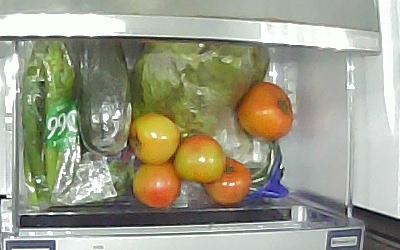tomato: (235, 80, 293, 140), (127, 111, 180, 164), (173, 133, 225, 183), (201, 155, 251, 204), (131, 160, 181, 208)
